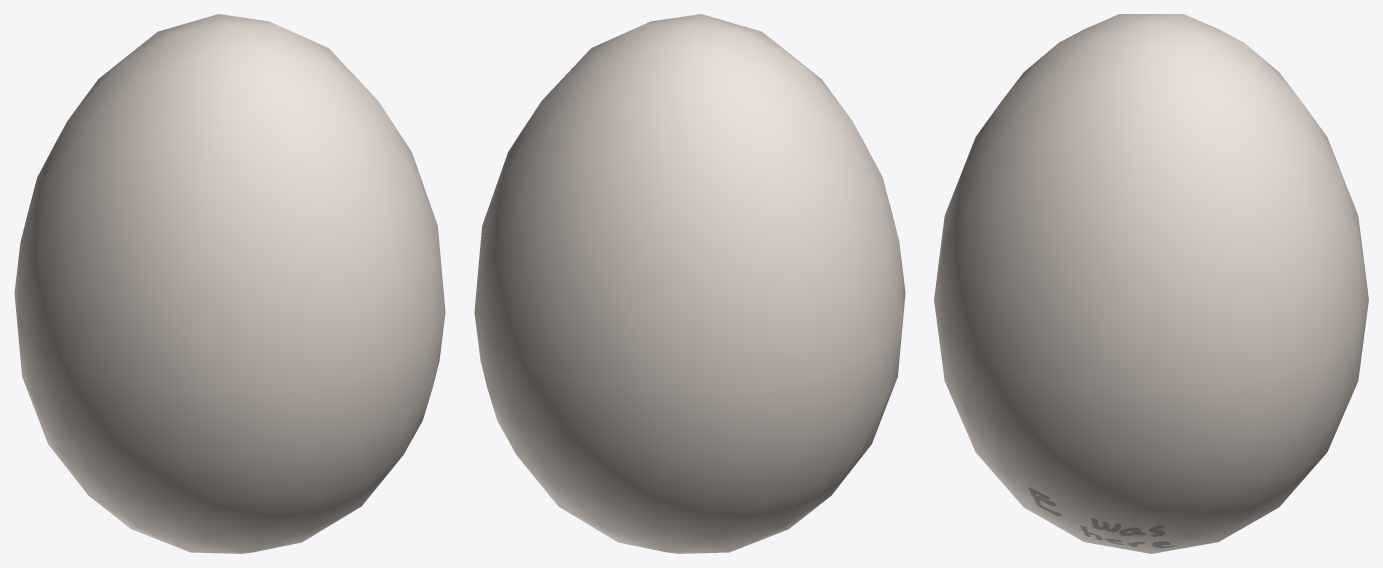
Rendered from egg.fbx.
The picture shows the model from 3 angles, left to right: view 1: azimuth 30°, elevation 25°; view 2: azimuth 150°, elevation 25°; view 3: azimuth 270°, elevation 25°; orthographic projection.
Visible parts, largest first — view 1: egg_320_tig; view 2: egg_320_tig; view 3: egg_320_tig.
Part boxes in pixels (left/top/right/bottom): egg_320_tig: left=14, top=14, right=445, bottom=553; egg_320_tig: left=474, top=14, right=905, bottom=553; egg_320_tig: left=934, top=14, right=1368, bottom=553.
Size of the model in its own units: 2 by 2 by 2.61.
Materials: 1 (1 with a texture image).
